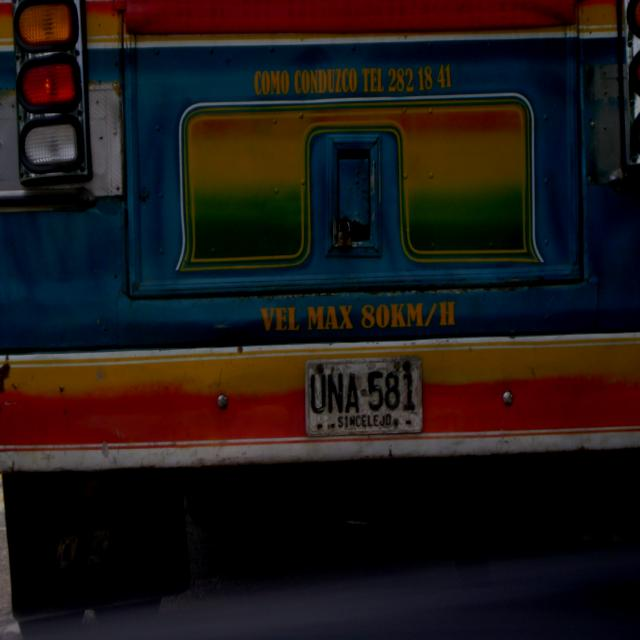placa: (298, 346, 427, 440)
